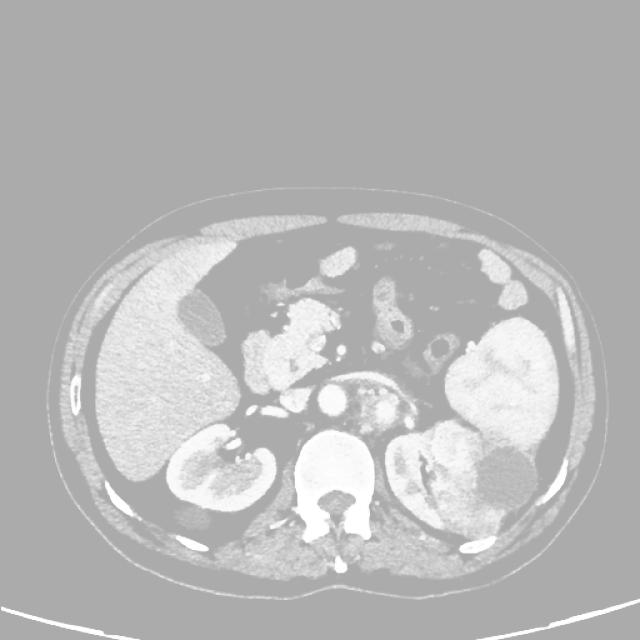TUMOR: (132, 245, 498, 532)
